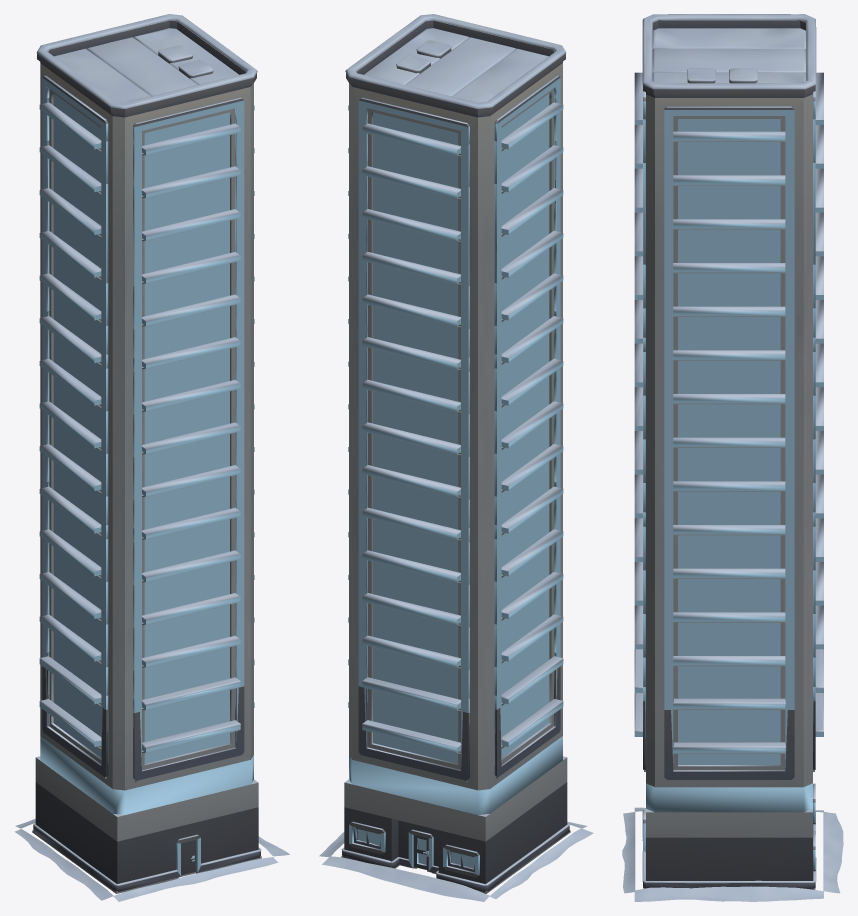
File: tower_a.glb
3 views of the same model, side by side, from view 1: azimuth 30°, elevation 25°; view 2: azimuth 150°, elevation 25°; view 3: azimuth 270°, elevation 25° (orthographic). The views are drawn at different scales.
Visible parts, largest first — view 1: Base, Shaft_2, Shaft_1, Shaft_0, Roof, Shaft_3; view 2: Base, Shaft_2, Shaft_1, Shaft_0, Roof, Shaft_3; view 3: Base, Shaft_0, Shaft_2, Shaft_1, Roof, Shaft_3.
Part boxes in pixels (left/top/right/bottom): Base: left=14, top=646, right=289, bottom=901; Shaft_2: left=39, top=134, right=254, bottom=358; Shaft_1: left=39, top=305, right=254, bottom=529; Shaft_0: left=39, top=475, right=254, bottom=699; Roof: left=36, top=14, right=257, bottom=145; Shaft_3: left=39, top=91, right=254, bottom=188; Base: left=319, top=645, right=593, bottom=901; Shaft_2: left=348, top=134, right=563, bottom=358; Shaft_1: left=348, top=304, right=563, bottom=529; Shaft_0: left=348, top=475, right=563, bottom=699; Roof: left=345, top=14, right=566, bottom=145; Shaft_3: left=348, top=91, right=563, bottom=188; Base: left=622, top=649, right=843, bottom=901; Shaft_0: left=634, top=474, right=823, bottom=695; Shaft_2: left=634, top=125, right=823, bottom=346; Shaft_1: left=634, top=300, right=823, bottom=520; Roof: left=642, top=14, right=816, bottom=127; Shaft_3: left=634, top=72, right=823, bottom=171.
Size of what is drawn, in the model's own units: 17.63 by 70.06 by 17.44.
